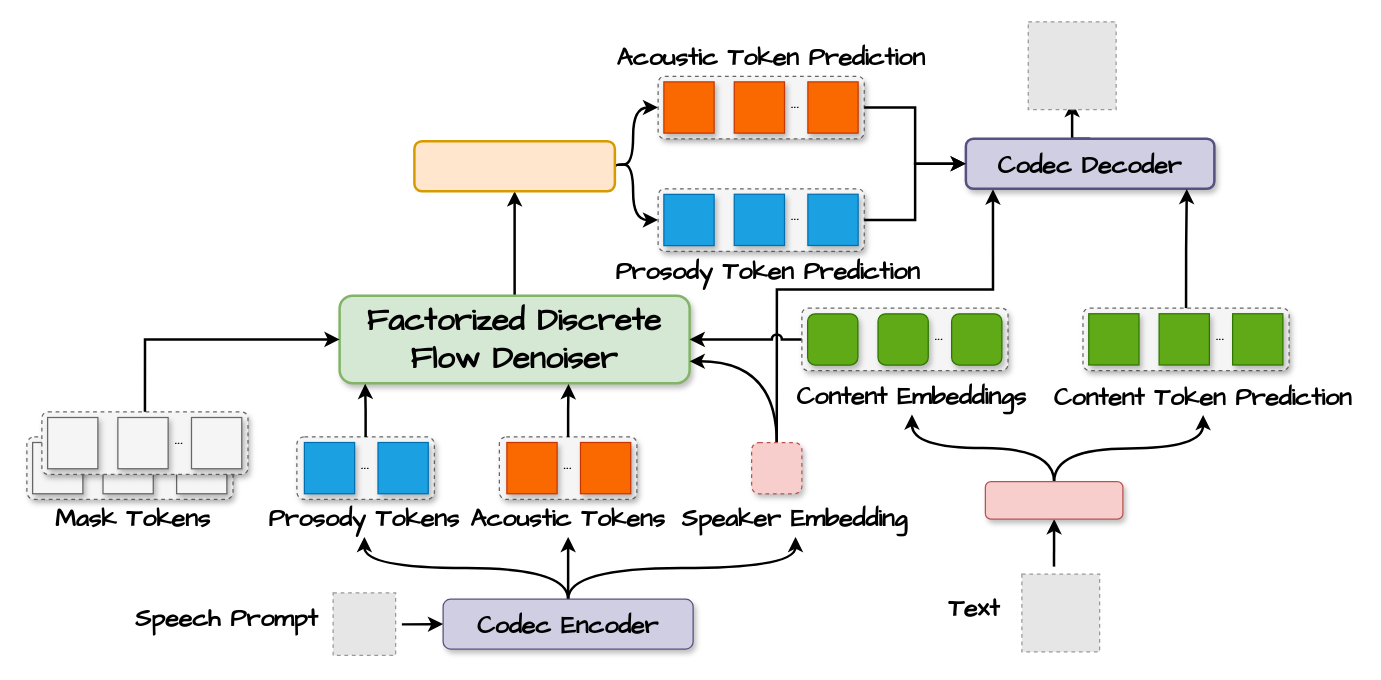
This 1381x680 diagram has some shape labels left out. Grey dashed boxes stand in for pictures. Each missing label, with the centre of its shape:
"Discrete Solver" goes at point (514, 165).
"PCM" goes at point (1054, 501).
